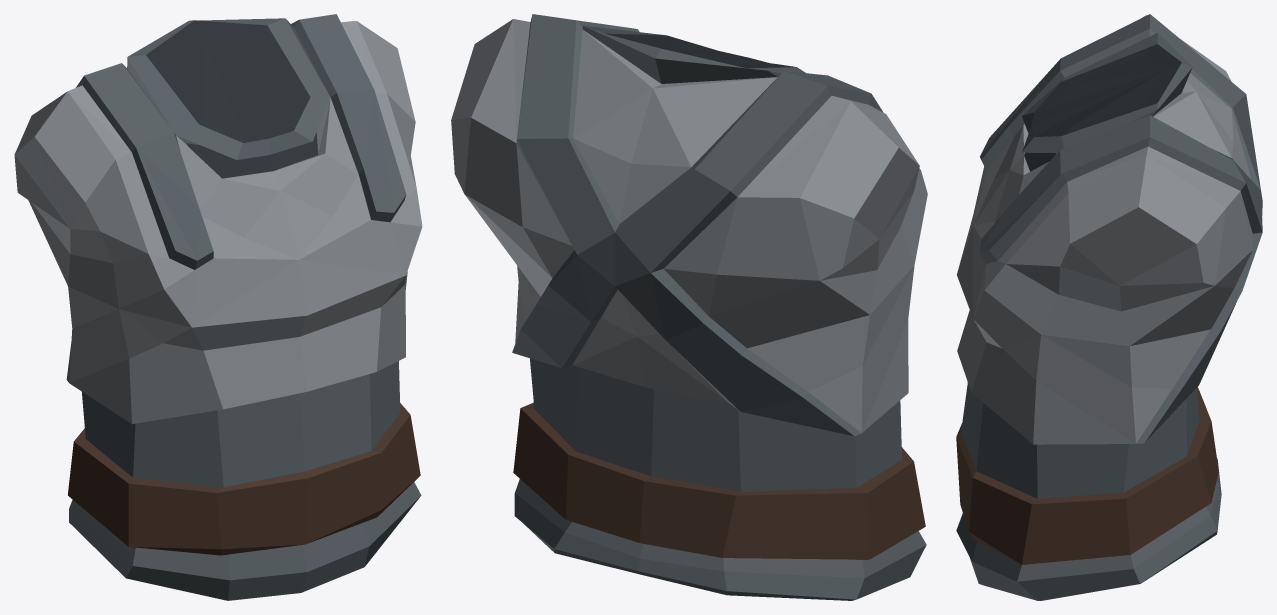
File: Chr_Torso_Male_21_Static.fbx
3 views of the same model, side by side, from view 1: azimuth 30°, elevation 25°; view 2: azimuth 150°, elevation 25°; view 3: azimuth 270°, elevation 25° (orthographic). The views are drawn at different scales.
Visible parts, largest first — view 1: Chr_Torso_Male_21_Static; view 2: Chr_Torso_Male_21_Static; view 3: Chr_Torso_Male_21_Static.
Part boxes in pixels (x1=…): Chr_Torso_Male_21_Static: x1=14, y1=14, x2=422, y2=600; Chr_Torso_Male_21_Static: x1=451, y1=14, x2=927, y2=600; Chr_Torso_Male_21_Static: x1=956, y1=14, x2=1262, y2=600.
Size of the model in its own units: 0.502 by 0.6569 by 0.368.
